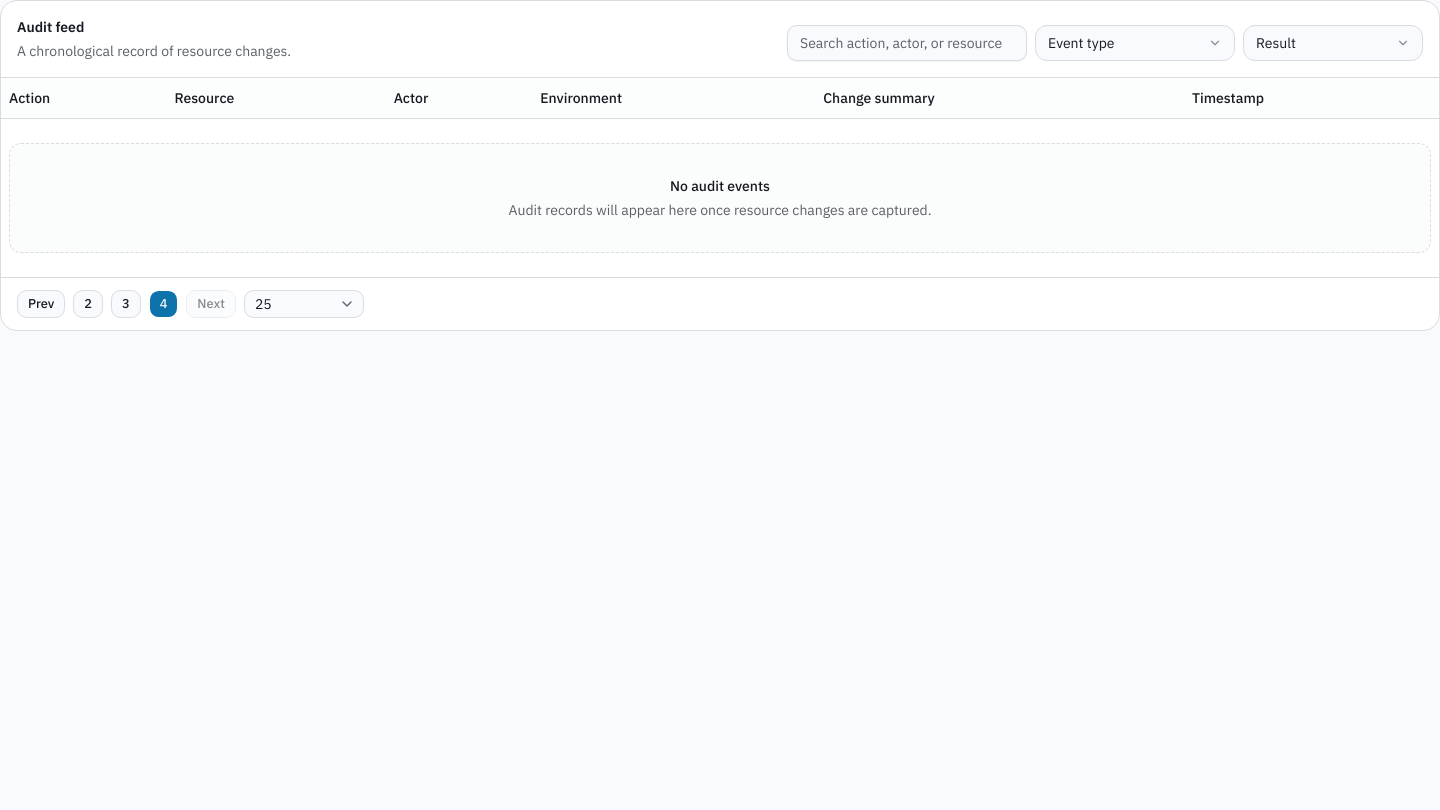
Test: AuditTable › keeps auth and query filter options when the current page is empty
The width and height of the screenshot is (1440, 810).
Click the button "Event type". click: click(1135, 43)
box: [1035,25,1235,61]
(page scrolled)
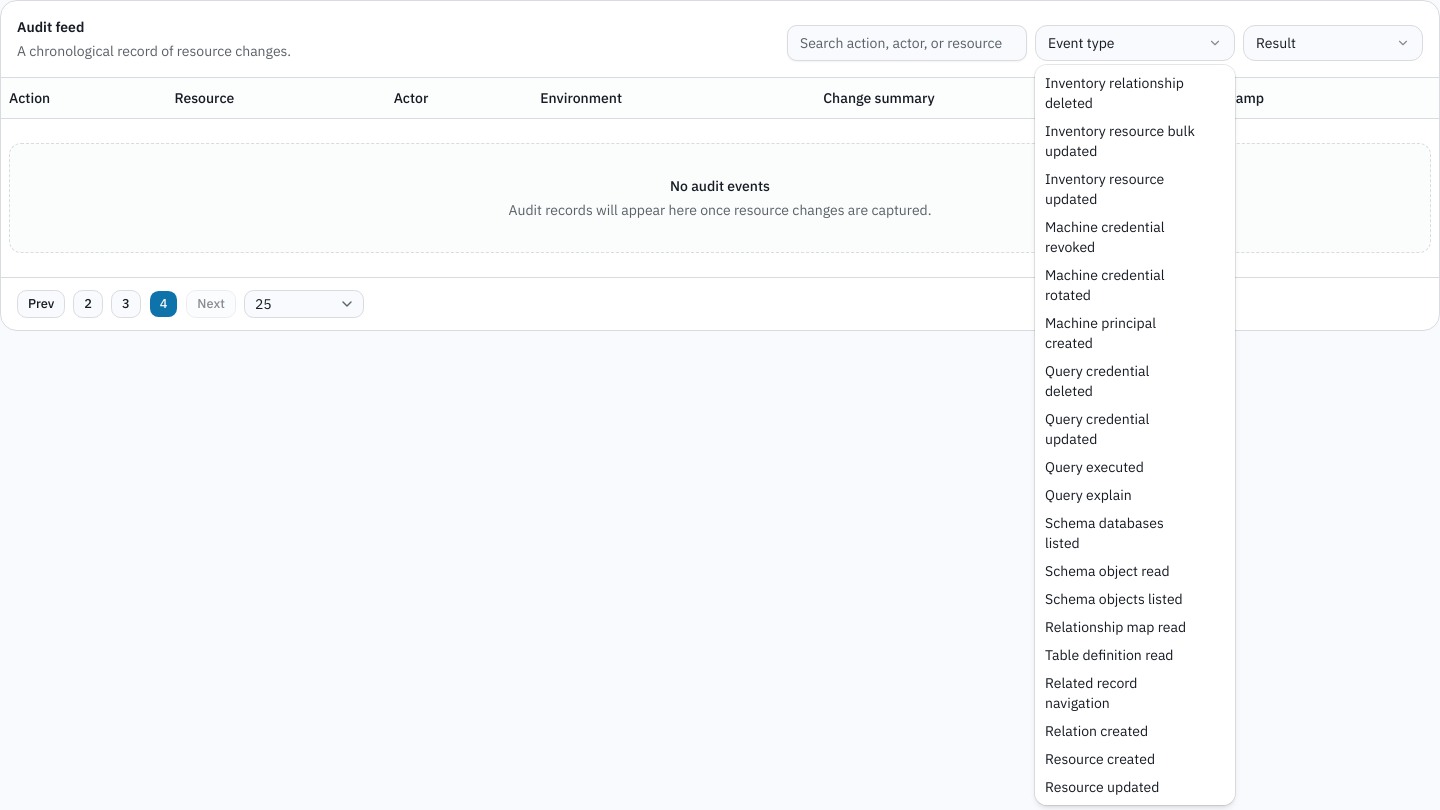
Expected: the menu item "Query explain" is shown, [1045,486,1132,504]
Press Escape
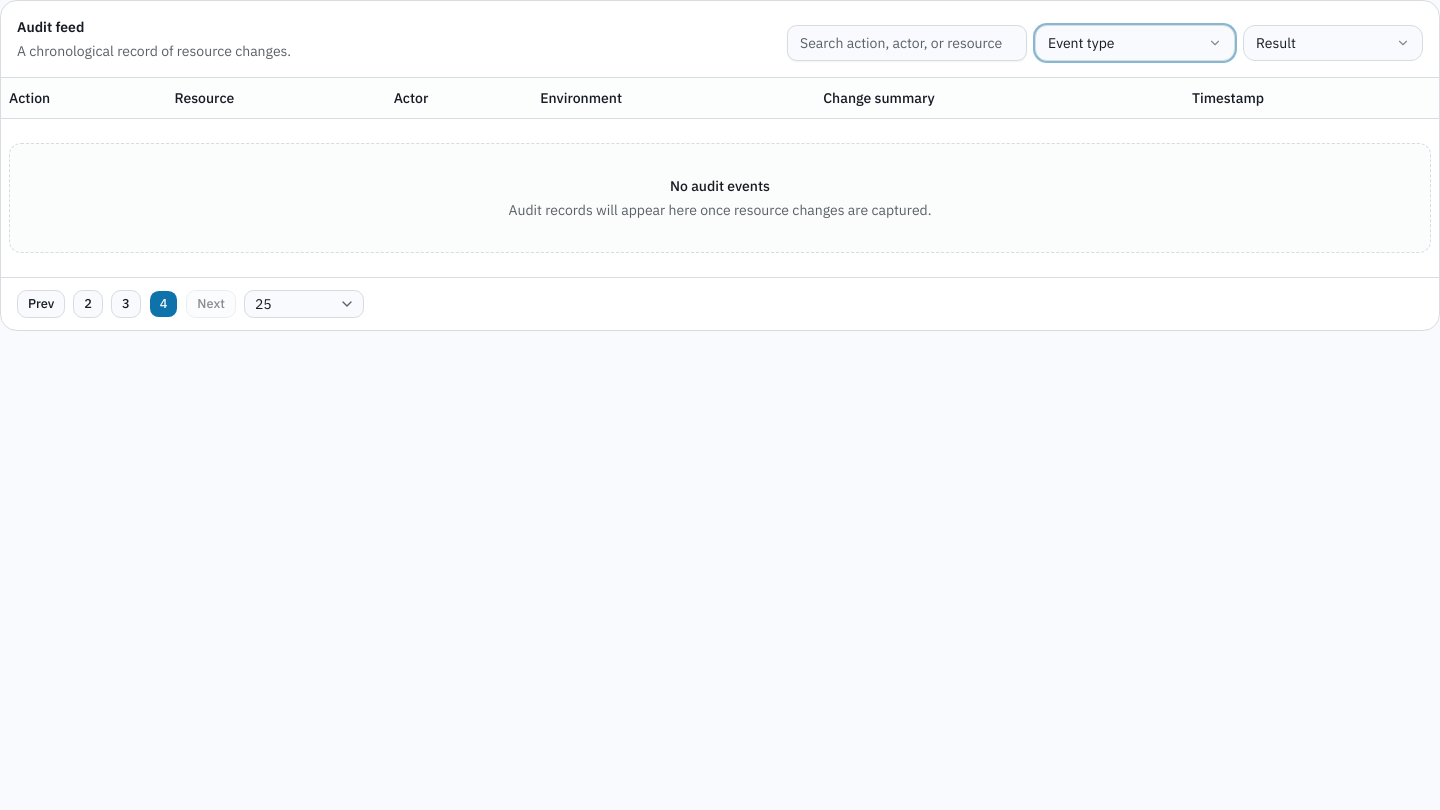
Click the button "Result". click: click(1333, 43)
box: [1243,25,1423,61]
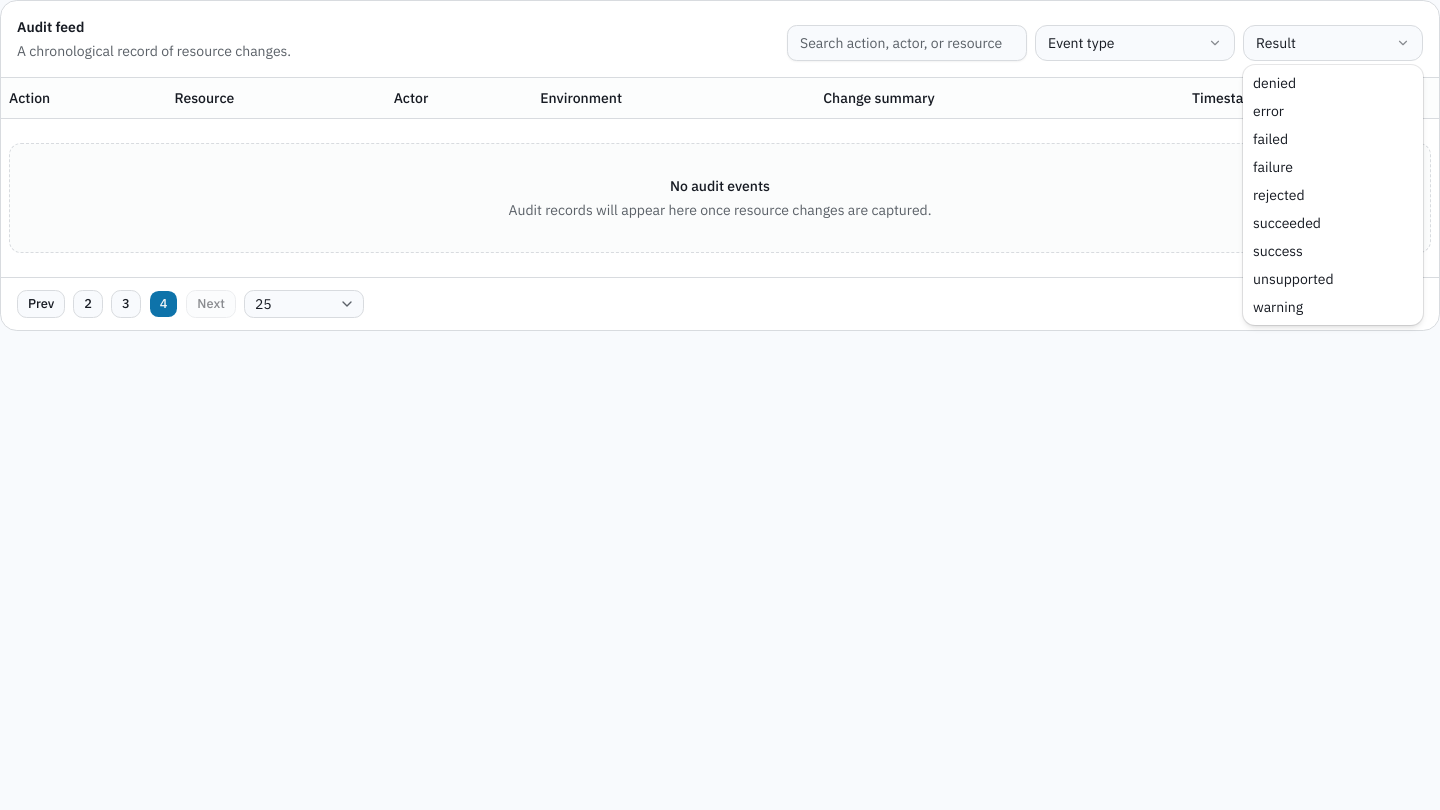
Expected: the menu item "succeeded" is shown, [1253,214,1321,232]
Expected: the menu item "denied" is shown, [1253,74,1296,92]
